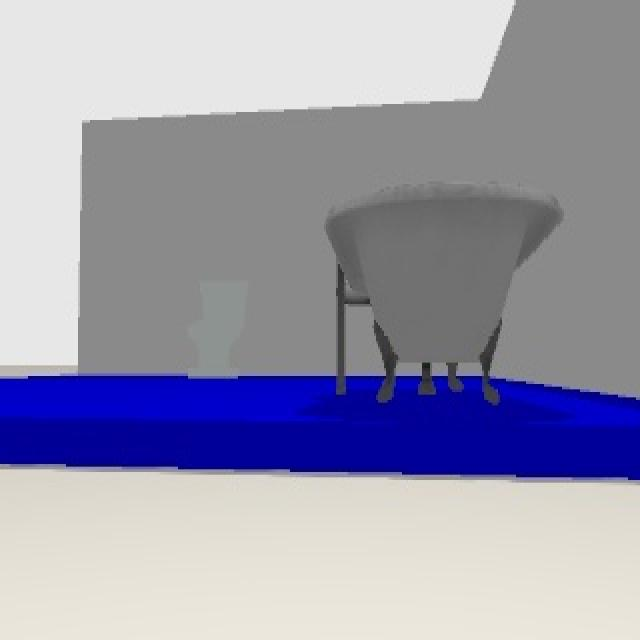bathtub: (322, 181, 566, 405)
